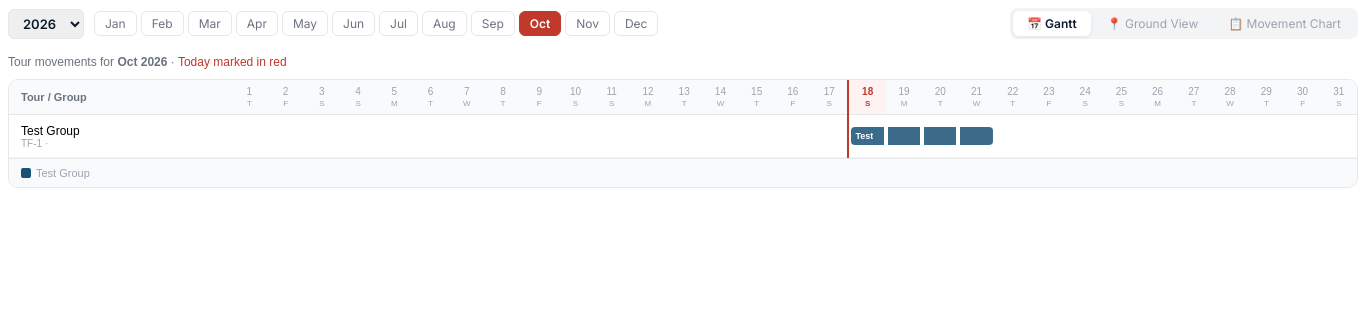
Test: Movement Chart field selector › checking a column adds it to the table with real resolved data
Click the button "📋 Movement Chart": click(1285, 24) [1214,11,1355,36]
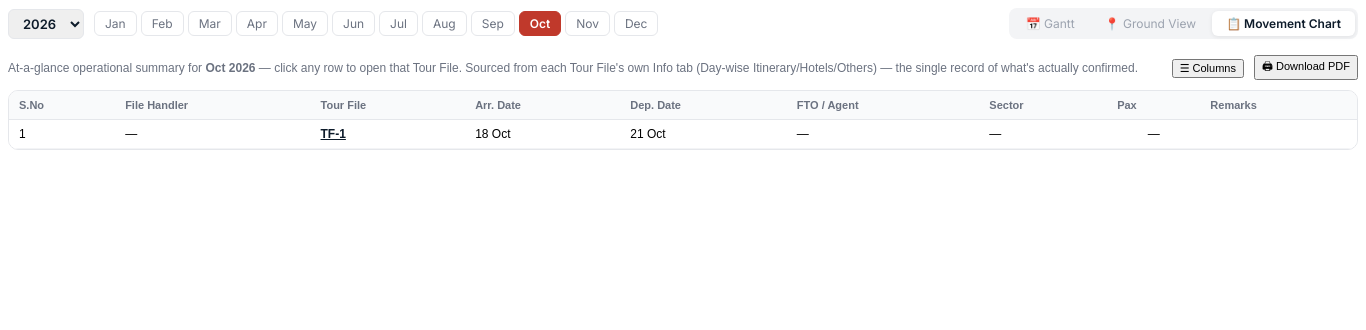
Click the button "☰ Columns": click(1208, 68) [1172,58,1244,78]
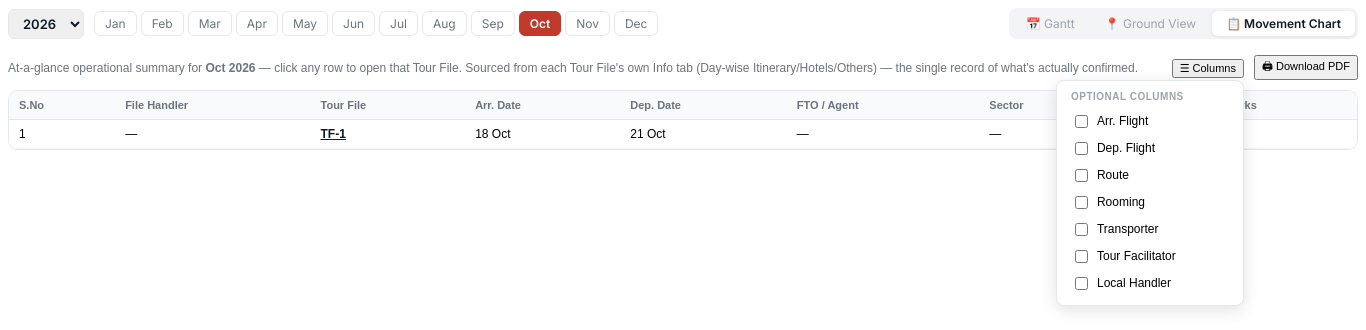
Click the checkbox labelled "Transporter": click(1082, 229) [1075,222,1088,236]
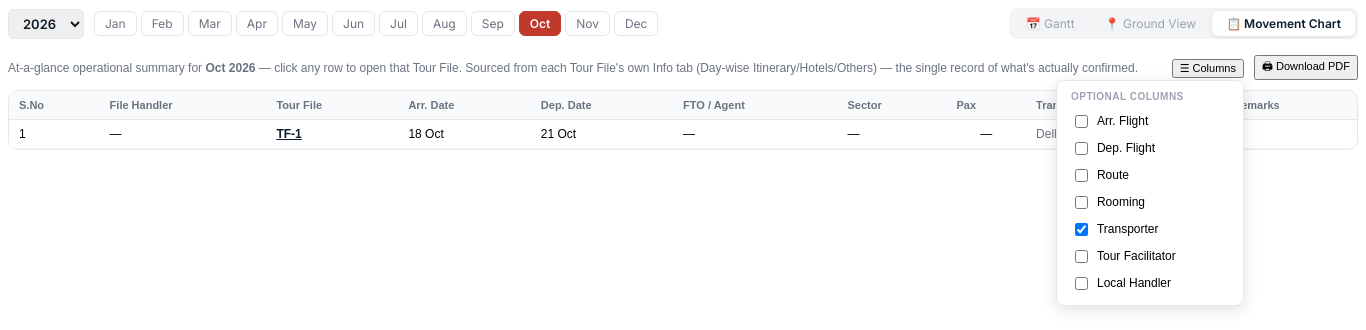
Expected: the text "Transporter" is shown, [1075,222,1159,236]
Expected: the text "Delhi Coaches" is shown, [1026,120,1223,148]
